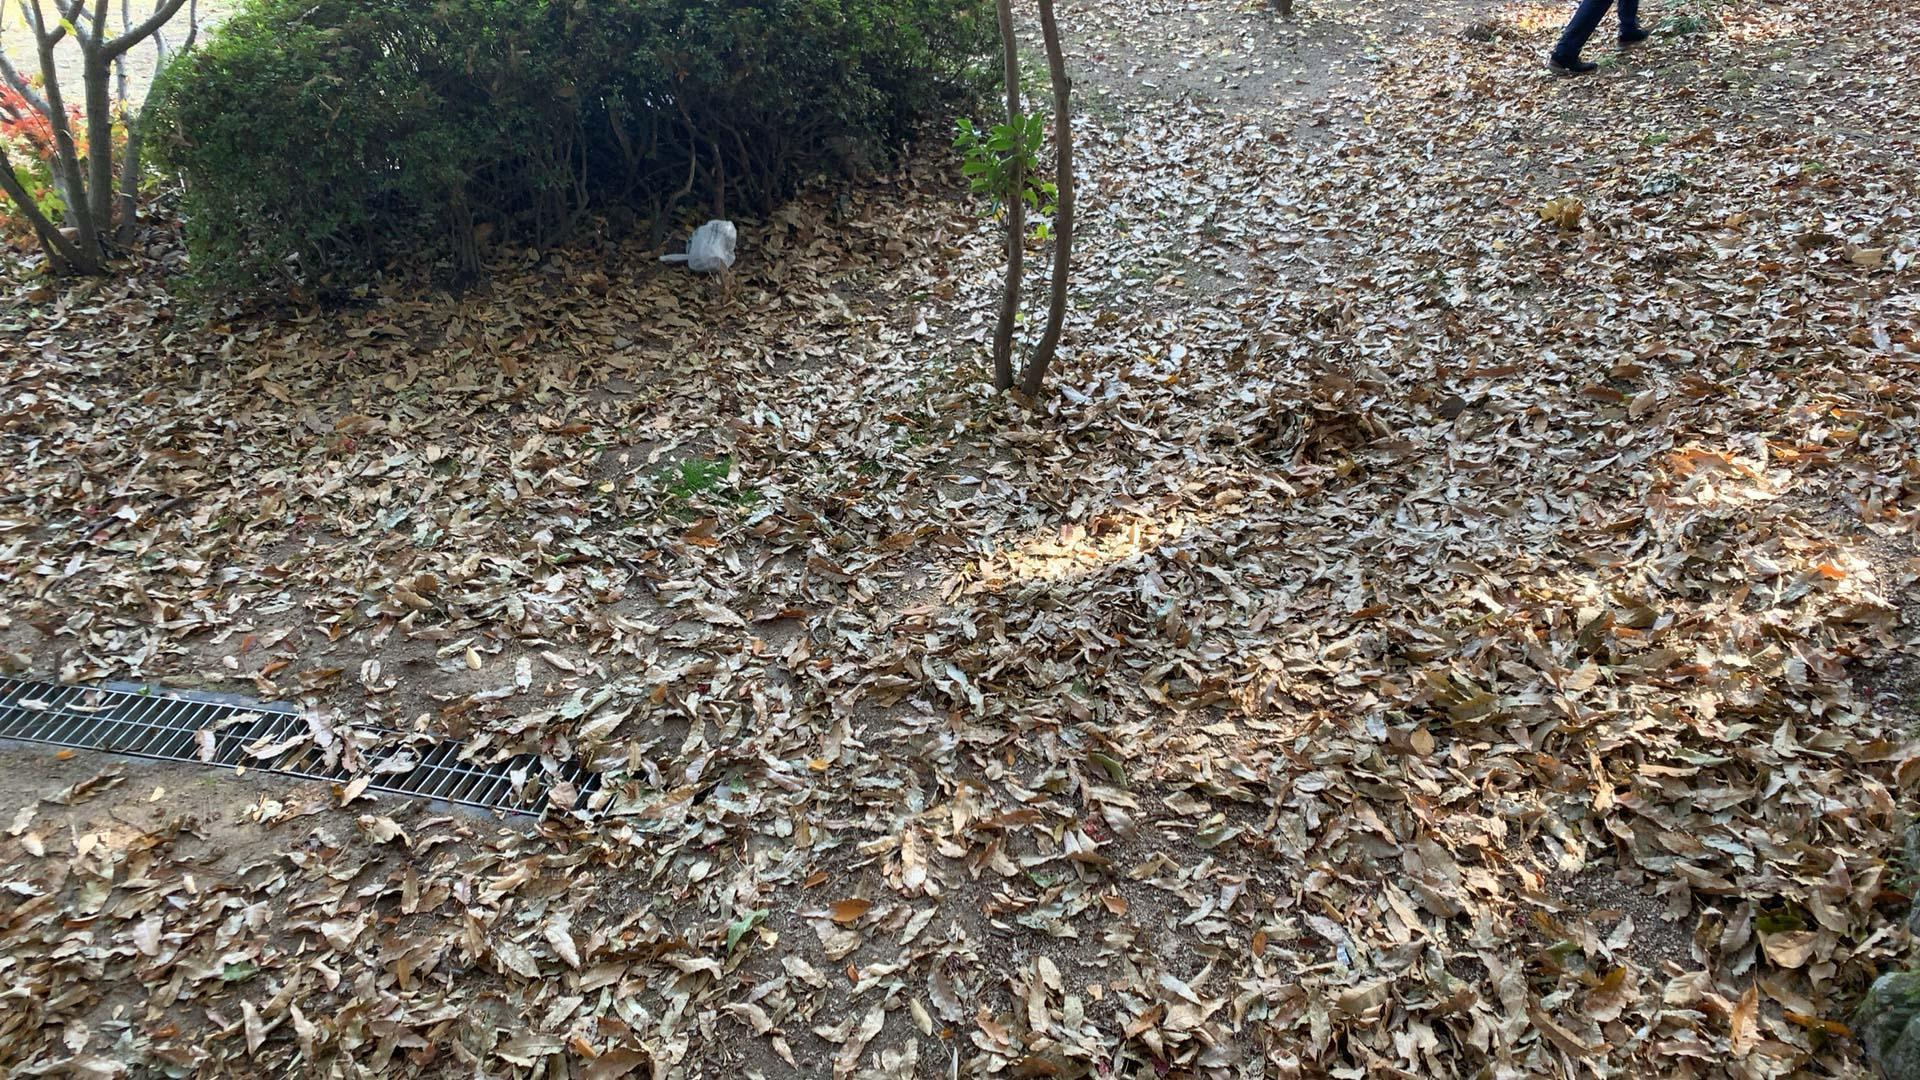white_bag: (655, 216, 740, 277)
